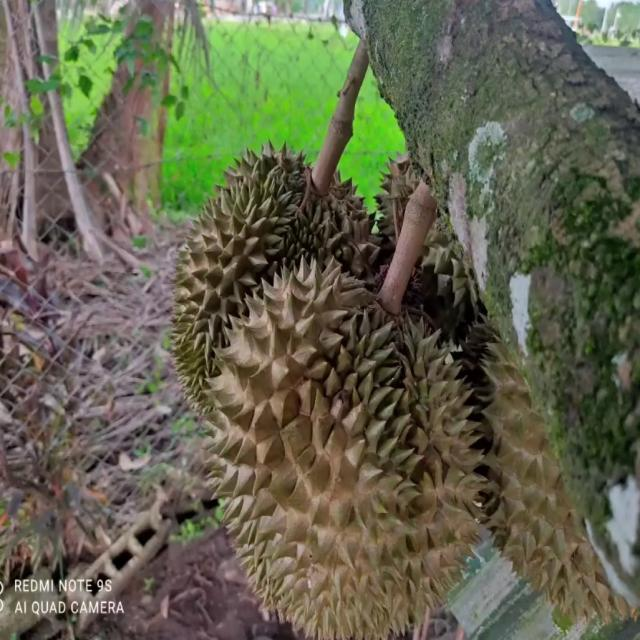mature: (204, 260, 483, 640), (168, 134, 386, 428)
